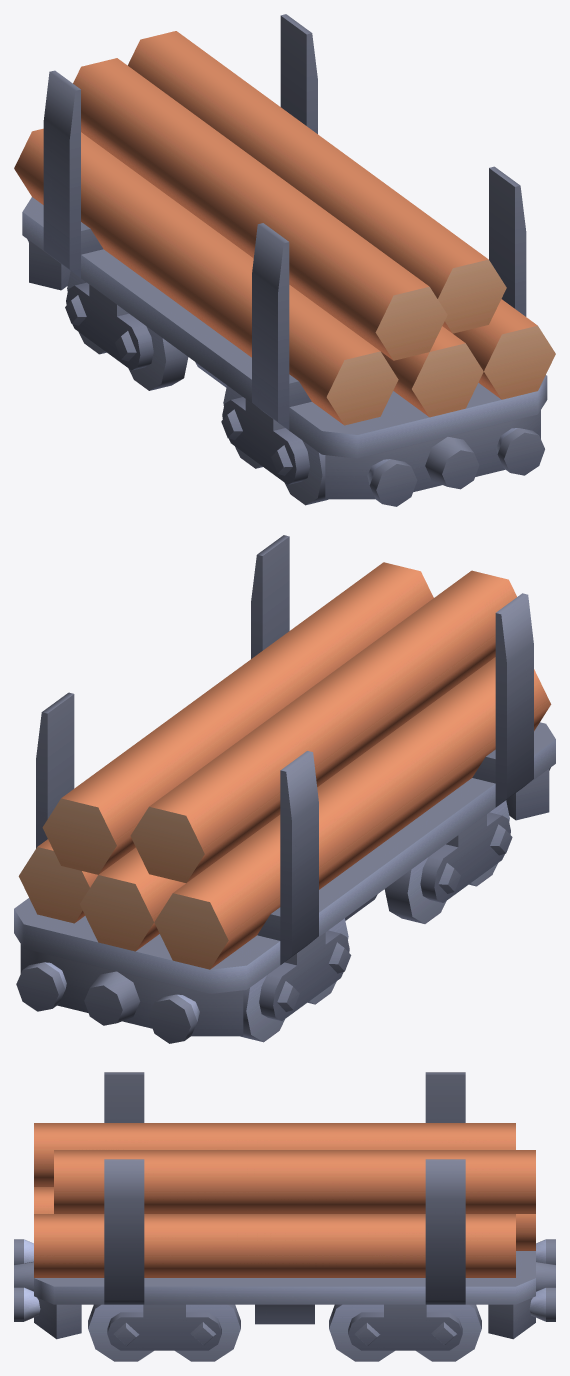
The model's file is train-carriage-lumber.glb.
3 renders of one model, top to bottom at view 1: azimuth 30°, elevation 25°; view 2: azimuth 150°, elevation 25°; view 3: azimuth 270°, elevation 25°, orthographic. The views are drawn at different scales.
Visible parts, largest first — view 1: train-carriage-lumber; view 2: train-carriage-lumber; view 3: train-carriage-lumber.
Boxes of the visible parts, x1,y1,x2,y2 form: train-carriage-lumber: (14,14,555,506); train-carriage-lumber: (14,535,555,1043); train-carriage-lumber: (14,1072,555,1361).
Bounding box in the file's own units: 1.1 × 1.16 × 2.7.
1 material, 1 textured.
